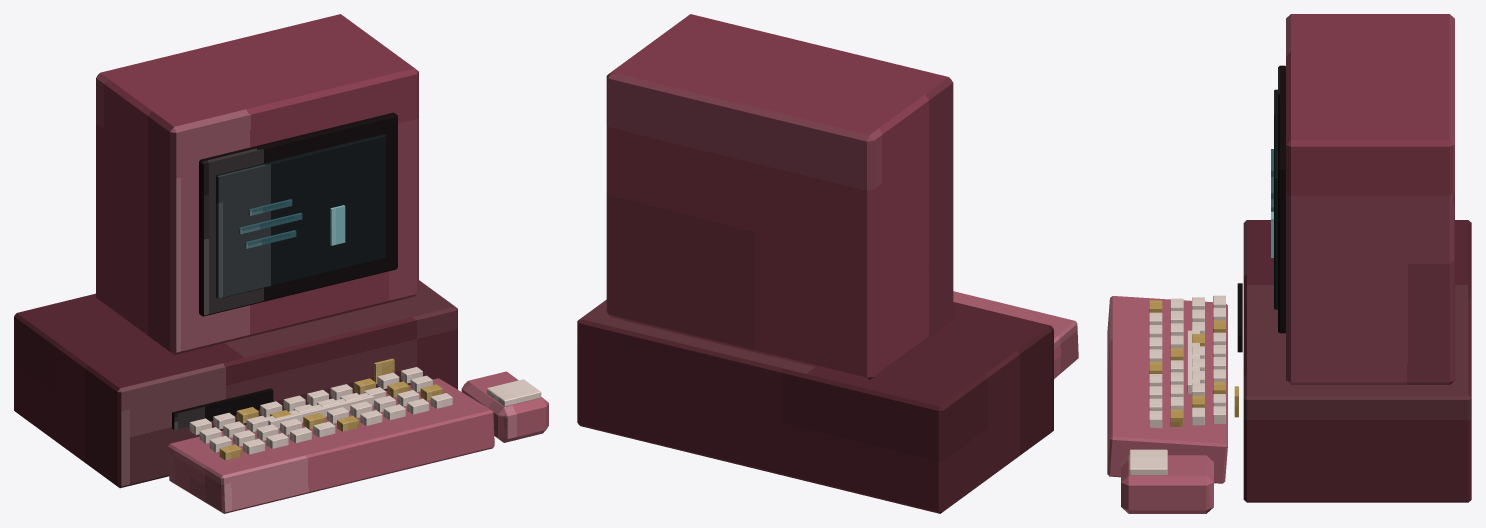
Rendered from retro_computer_desktop_burgundy.glb.
The picture shows the model from 3 angles, left to right: view 1: azimuth 30°, elevation 25°; view 2: azimuth 150°, elevation 25°; view 3: azimuth 270°, elevation 25°; orthographic projection. The views are drawn at different scales.
Visible parts, largest first — view 1: MonitorShell, DesktopCase, MonitorGlow, KeyboardBody, MonitorFace, Mouse, FloppySlot, MouseButton, SpaceBar, ScreenGlyph_4; view 2: MonitorShell, DesktopCase, KeyboardBody; view 3: MonitorShell, DesktopCase, KeyboardBody, Mouse, MonitorFace, MouseButton, MonitorGlow, SpaceBar, FloppySlot.
Boxes of the visible parts, <box> form: MonitorShell: <box>96,14,418,354</box>; DesktopCase: <box>14,280,457,488</box>; MonitorGlow: <box>216,134,386,298</box>; KeyboardBody: <box>168,378,494,513</box>; MonitorFace: <box>199,112,397,316</box>; Mouse: <box>461,371,548,442</box>; FloppySlot: <box>172,388,273,429</box>; MouseButton: <box>487,379,541,406</box>; SpaceBar: <box>265,393,373,428</box>; ScreenGlyph_4: <box>330,205,345,245</box>; MonitorShell: <box>606,14,953,380</box>; DesktopCase: <box>577,299,1053,513</box>; KeyboardBody: <box>953,291,1078,378</box>; MonitorShell: <box>1286,14,1454,384</box>; DesktopCase: <box>1243,220,1471,502</box>; KeyboardBody: <box>1107,296,1227,483</box>; Mouse: <box>1121,455,1213,513</box>; MonitorFace: <box>1278,65,1285,333</box>; MouseButton: <box>1129,449,1167,475</box>; MonitorGlow: <box>1274,89,1277,309</box>; SpaceBar: <box>1187,330,1199,393</box>; FloppySlot: <box>1237,283,1242,352</box>.
Size of the model in its own units: 1.1 by 0.92 by 0.8629.
1 material, 1 textured.
